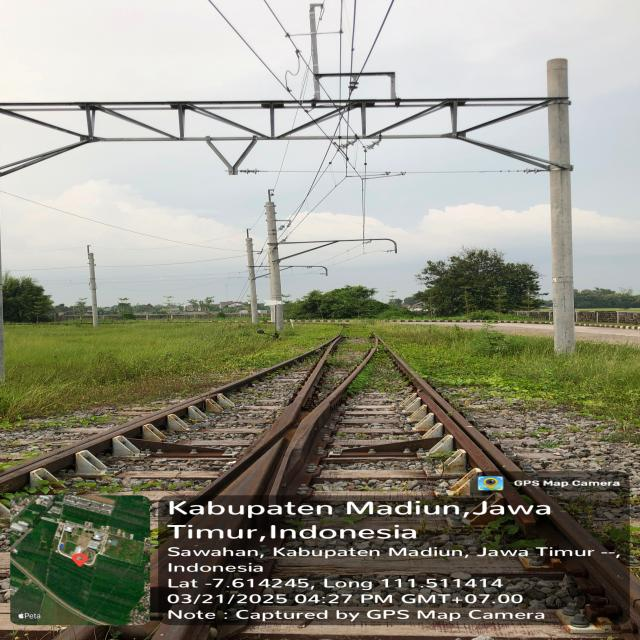rail-detection: (0, 335, 341, 489), (201, 337, 342, 496), (380, 340, 523, 483), (271, 340, 377, 494), (521, 485, 631, 609), (391, 351, 497, 472), (551, 506, 594, 549), (503, 459, 530, 480), (501, 488, 520, 506)
